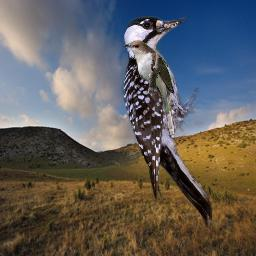Cuckoo: (122, 40, 175, 139)
Woodpecker: (121, 16, 212, 226)
